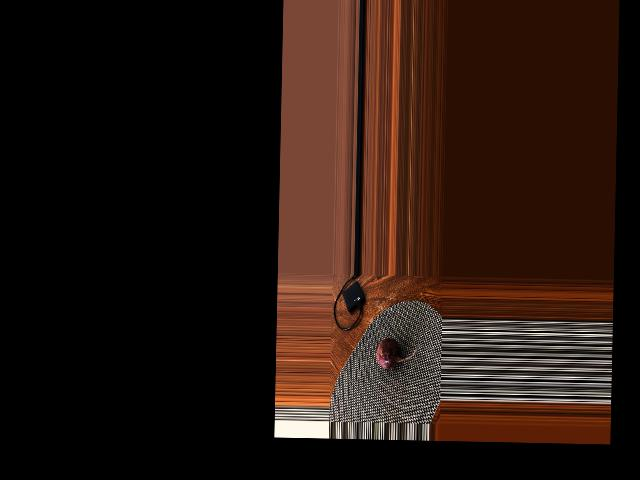beet: (376, 337, 417, 369)
